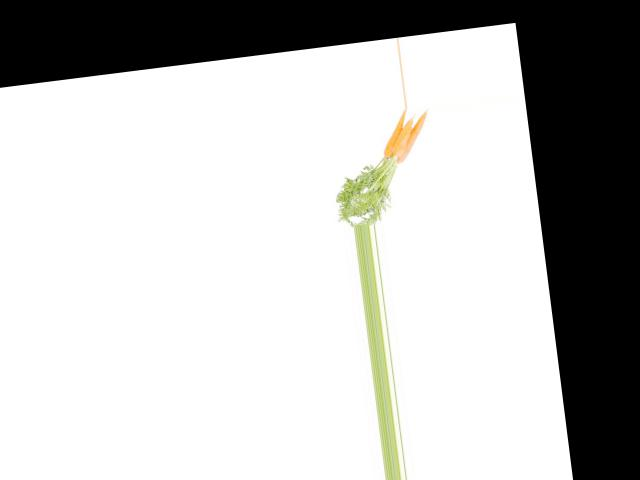carrot: (376, 109, 413, 157)
